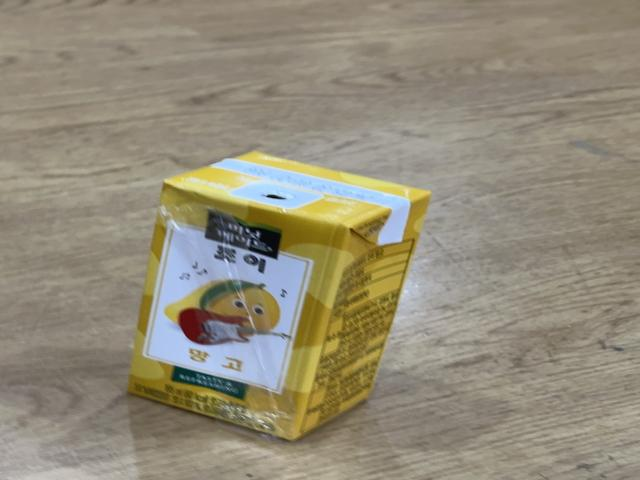drink_box: (128, 138, 388, 441)
